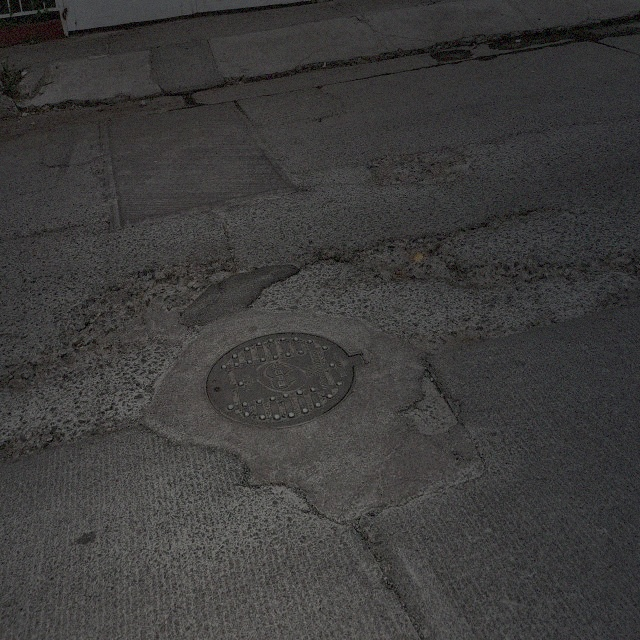pothole: (100, 250, 238, 332), (370, 144, 466, 194), (399, 358, 460, 436)
